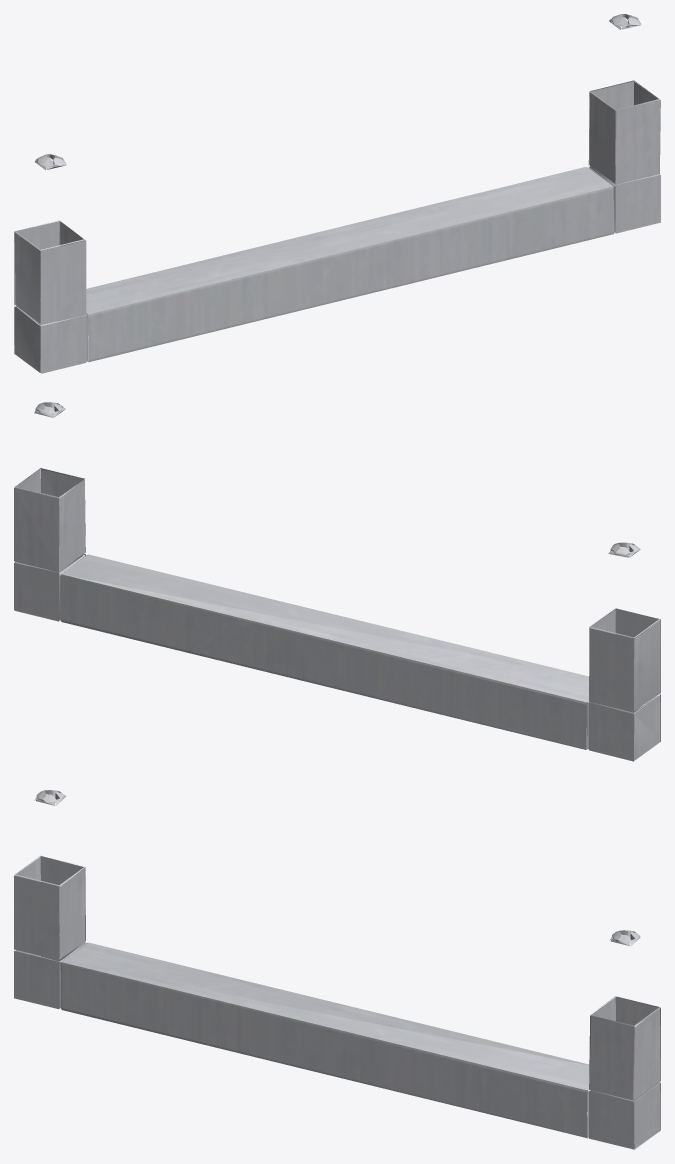
File: SM_Kitchen_Handle.obj
3 views of the same model, one above another, from view 1: azimuth 30°, elevation 25°; view 2: azimuth 150°, elevation 25°; view 3: azimuth 330°, elevation 25° (orthographic).
Visible parts, largest first — view 1: SM_Kitchen_Handle; view 2: SM_Kitchen_Handle; view 3: SM_Kitchen_Handle.
Boxes of the visible parts, x1,y1,x2,y2 form: SM_Kitchen_Handle: [14, 14, 660, 373]; SM_Kitchen_Handle: [14, 402, 660, 761]; SM_Kitchen_Handle: [14, 790, 660, 1149].
Bounding box in the file's own units: 0.1727 × 0.0538 × 0.0131.
1 material, 1 textured.
